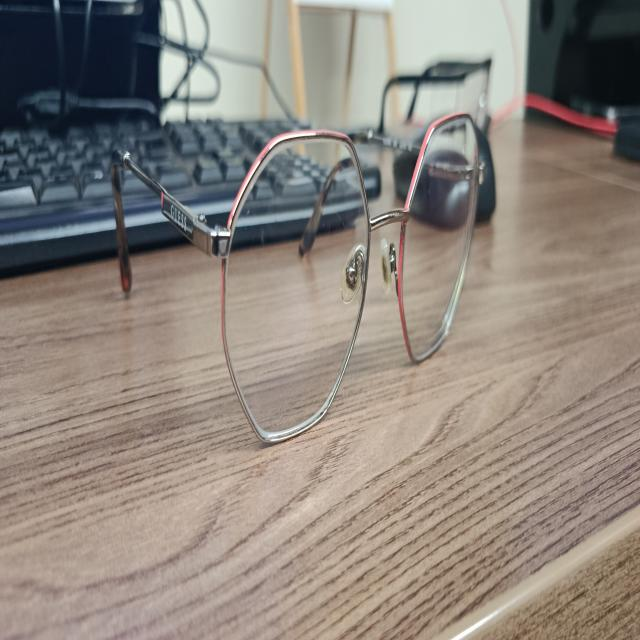sem_oculos: (222, 135, 371, 438), (401, 118, 478, 360), (115, 157, 221, 277)
